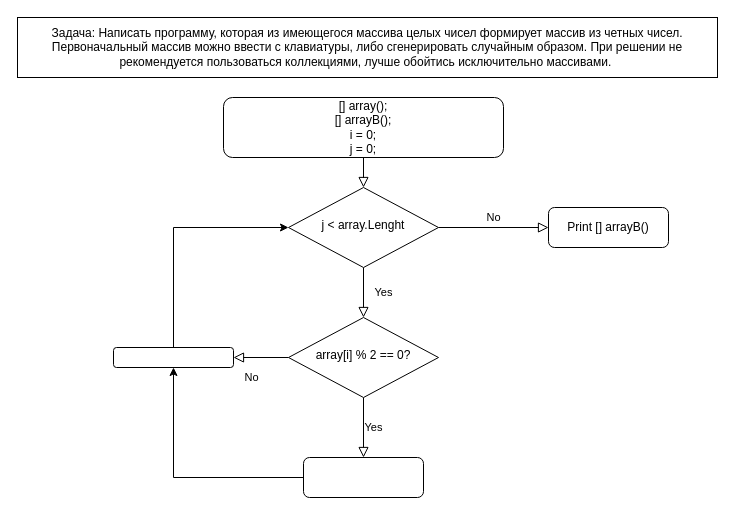
This 735x515 diagram has some shape labels left out. The centre of each missing label's shape, as x and y in pixels:
"arrayB[j] = array[i] j++;" goes at [363,477].
"i++" goes at [173,357].
